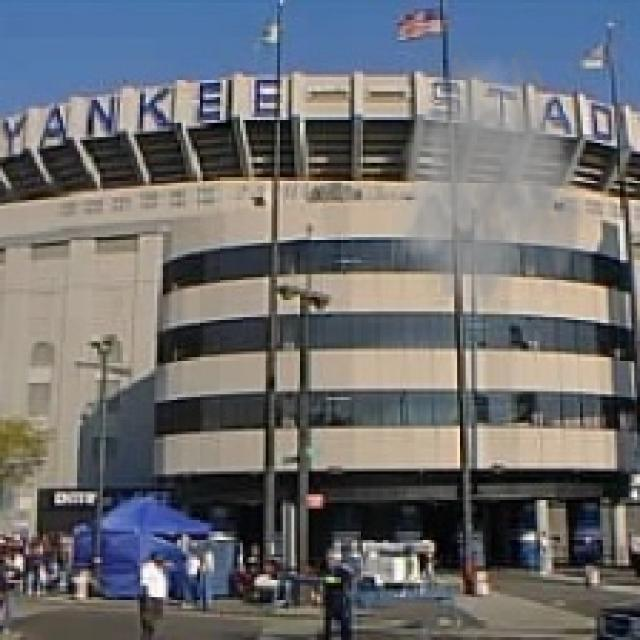smoke: (392, 43, 597, 317)
